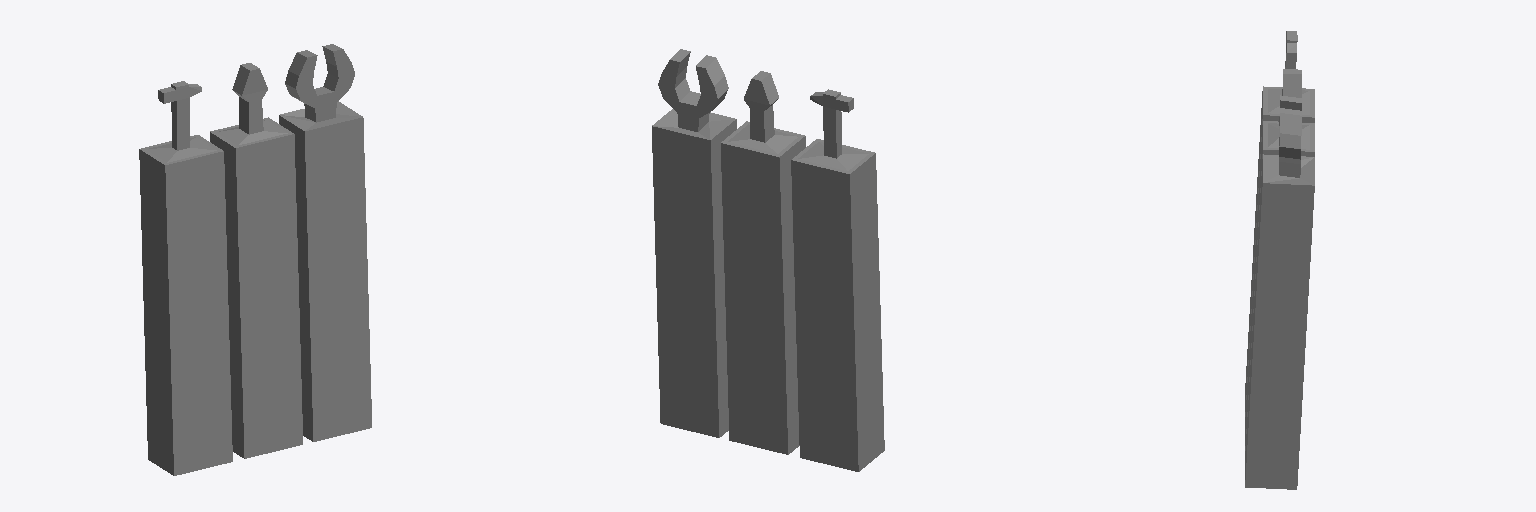
File: Instrument.obj
3 renders of one model, left to right at view 1: azimuth 30°, elevation 25°; view 2: azimuth 150°, elevation 25°; view 3: azimuth 270°, elevation 25°, orthographic.
Visible parts, largest first — view 1: Instrument; view 2: Instrument; view 3: Instrument.
Part boxes in pixels (left/top/right/bottom): Instrument: left=139, top=44, right=371, bottom=475; Instrument: left=652, top=49, right=884, bottom=471; Instrument: left=1245, top=31, right=1314, bottom=489.
Bounding box in the file's own units: 4.24 × 7.58 × 1.29.